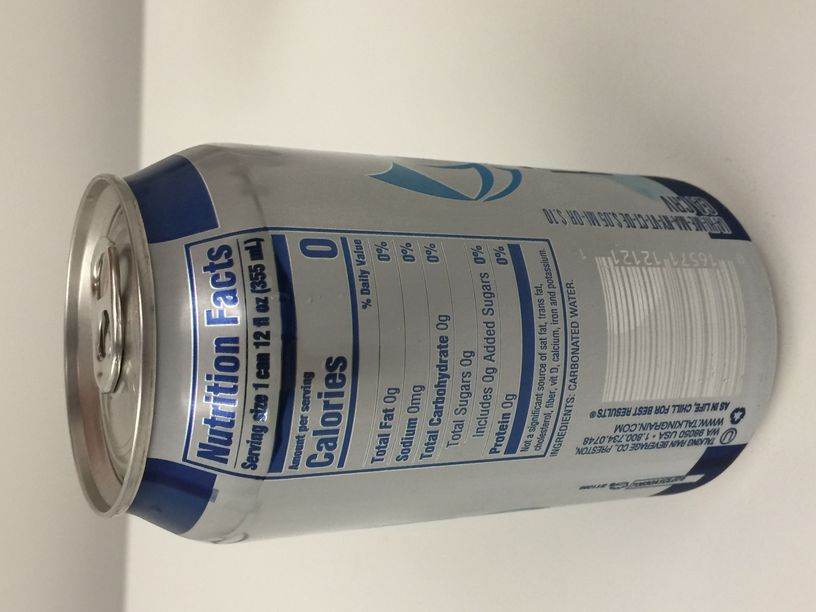competitor_02: (61, 143, 780, 544)
